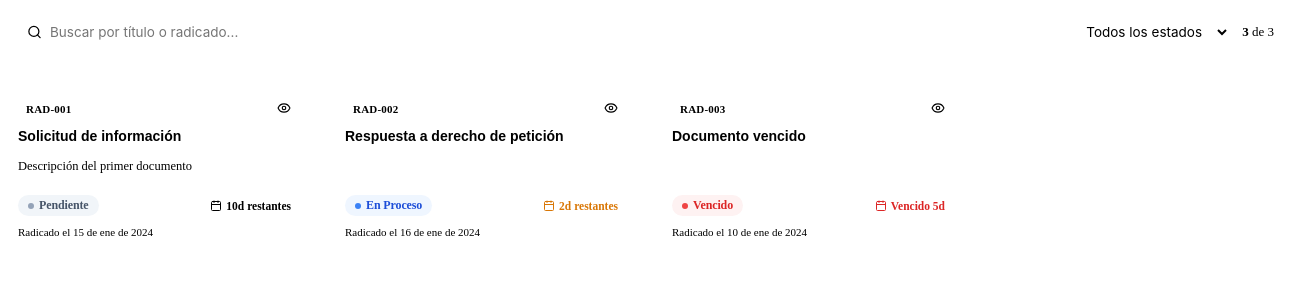
Scenario: DocumentsList › search filtering › should show no results message when search has no matches
Type "zzz-no-existe" into the field with placeholder "Buscar por título o radicado..." at (560, 32), box [16,16,1104,48]
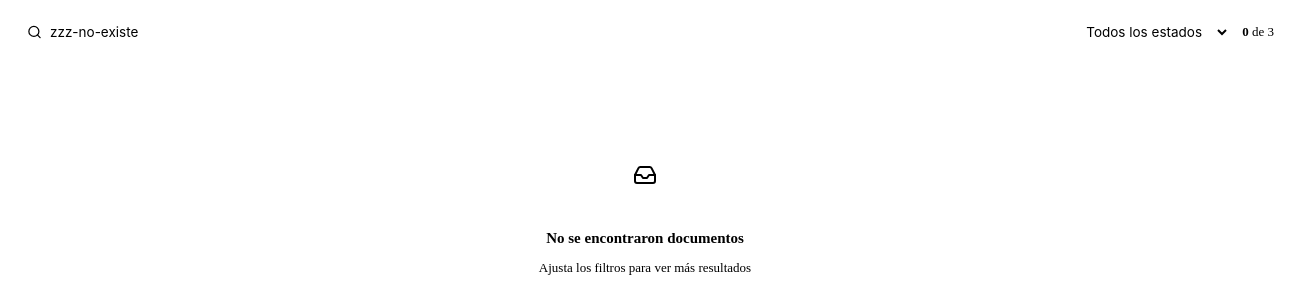
Result: the text "No se encontraron documentos" is shown at [539,230,751,247]
Result: the text "Ajusta los filtros para ver más resultados" is shown at [539,260,751,276]
